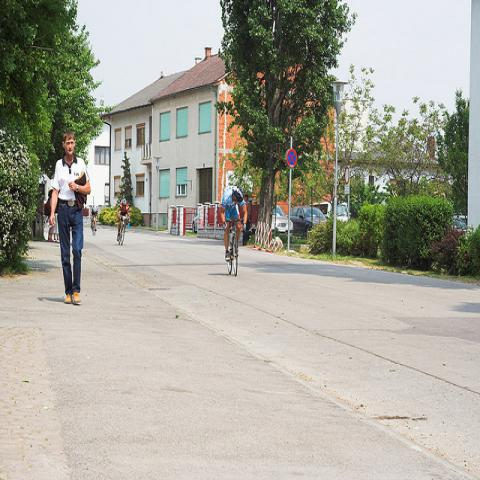car: (289, 206, 327, 239), (272, 204, 294, 234), (313, 201, 333, 220), (337, 201, 349, 222), (454, 216, 467, 229)
